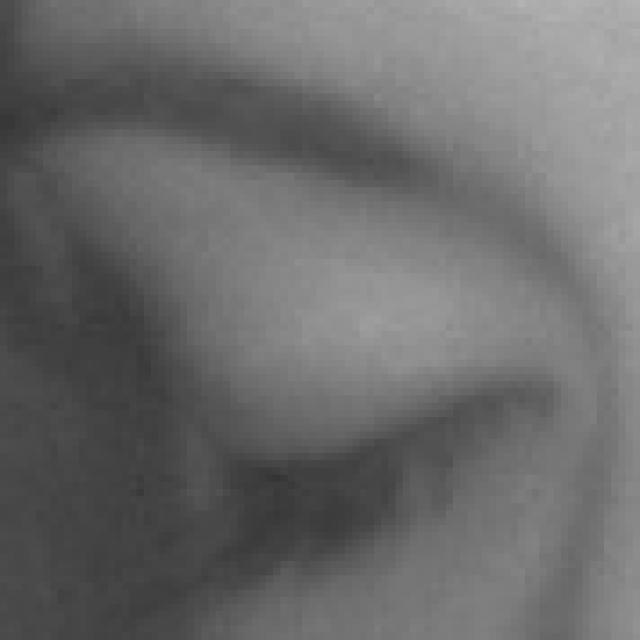close: (1, 54, 640, 631)
